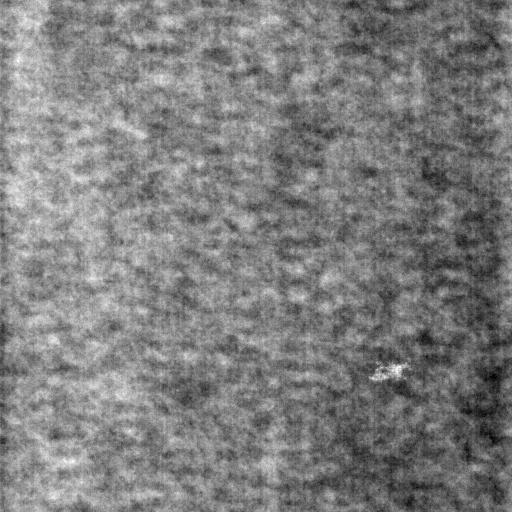DefectTypeA: (365, 357, 413, 386)
